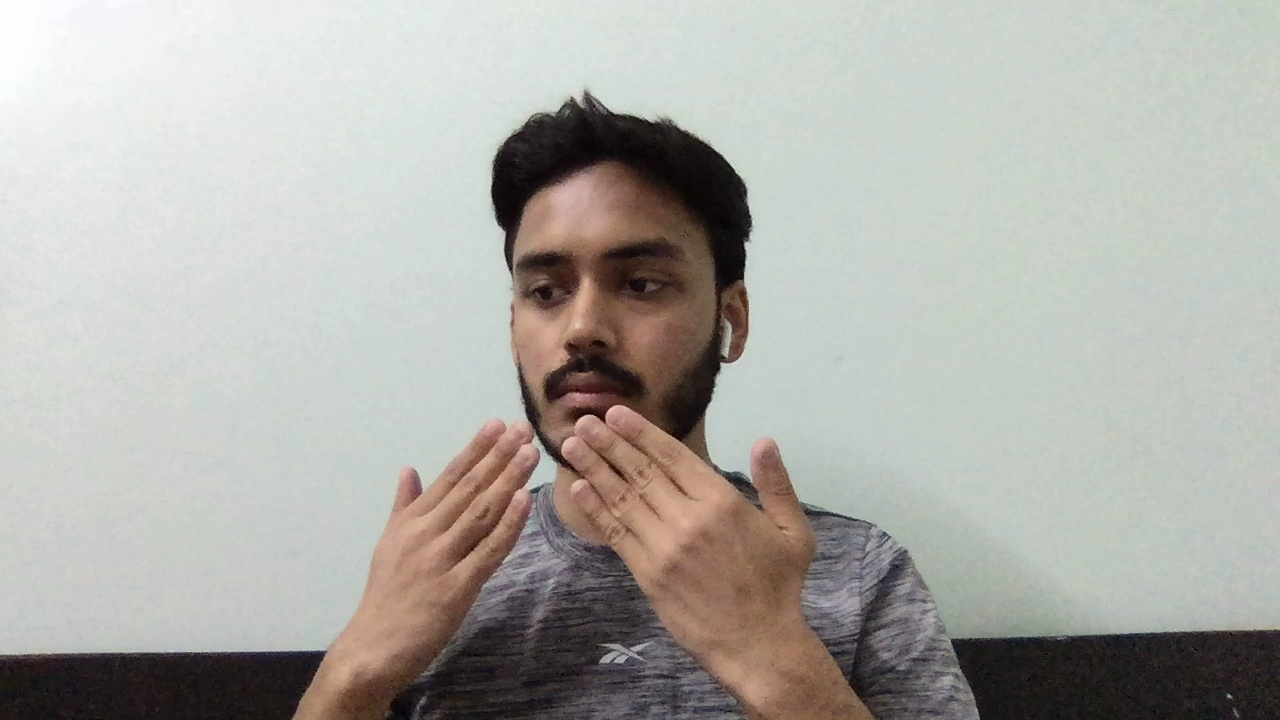Thank You: (326, 398, 851, 674)
